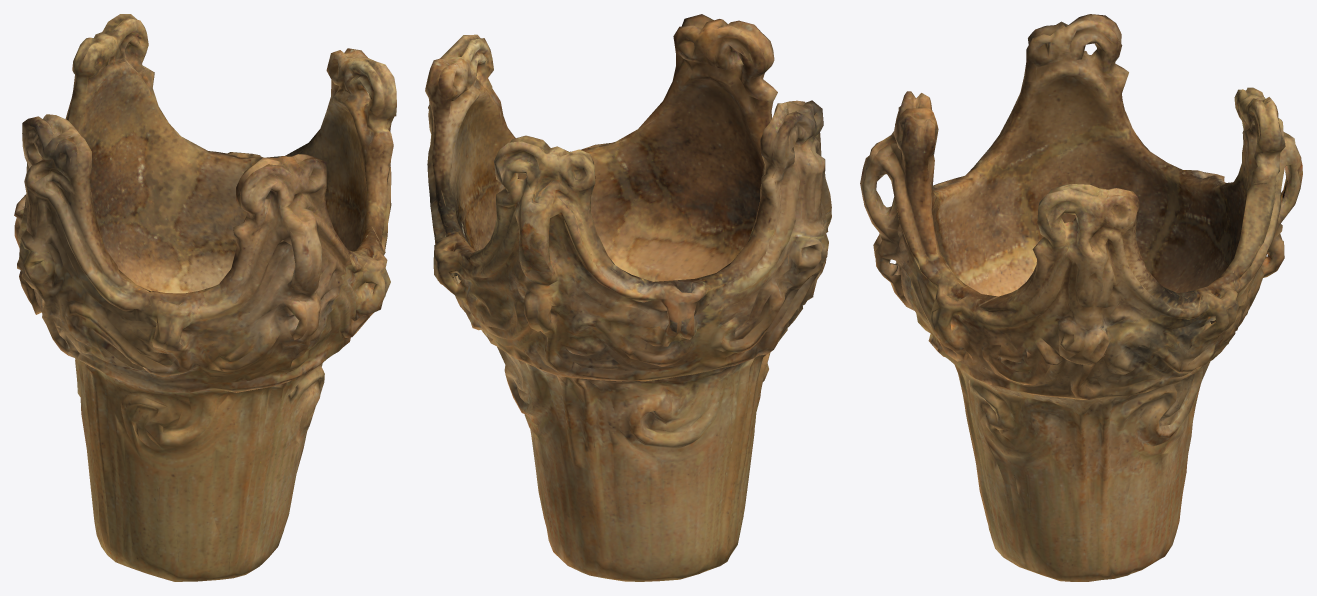
3 renders of one model, left to right at view 1: azimuth 30°, elevation 25°; view 2: azimuth 150°, elevation 25°; view 3: azimuth 270°, elevation 25°, orthographic. The views are drawn at different scales.
Visible parts, largest first — view 1: UD0412_low; view 2: UD0412_low; view 3: UD0412_low.
Part boxes in pixels (x1,y1,x2,y2): UD0412_low: [14, 14, 396, 581]; UD0412_low: [425, 14, 831, 581]; UD0412_low: [860, 14, 1302, 581].
Bounding box in the file's own units: 229 × 271 × 235.
Materials: 1 (1 with a texture image).
